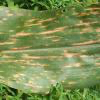Corn Gray leaf spot: (0, 4, 99, 96)
